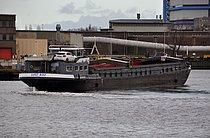Ship: (16, 46, 197, 96)
